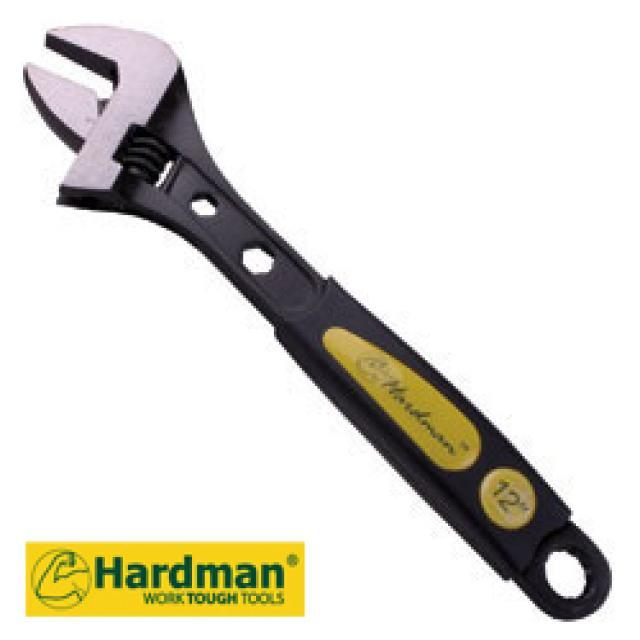wrench: (19, 15, 616, 628)
